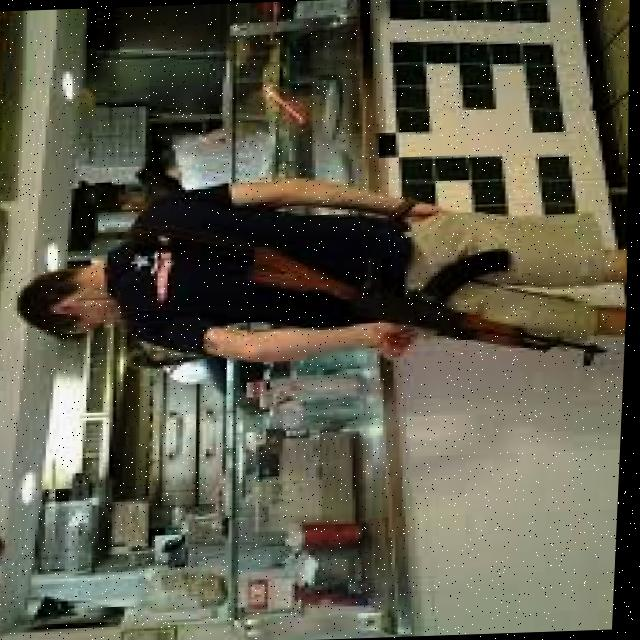firearm: (239, 235, 614, 378)
